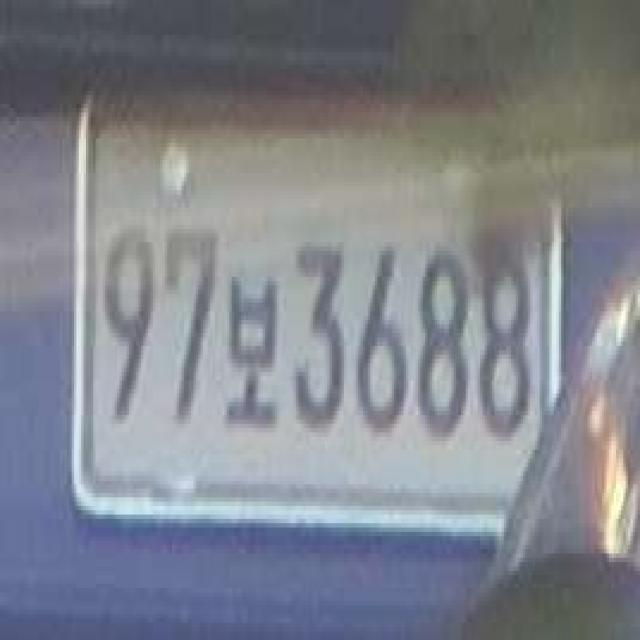3: (289, 230, 351, 436)
6: (356, 231, 413, 446)
7: (160, 216, 219, 422)
8: (479, 244, 534, 446), (418, 236, 469, 442)
9: (102, 214, 156, 425)
bo: (223, 260, 285, 433)
license_plate: (86, 98, 556, 521)
